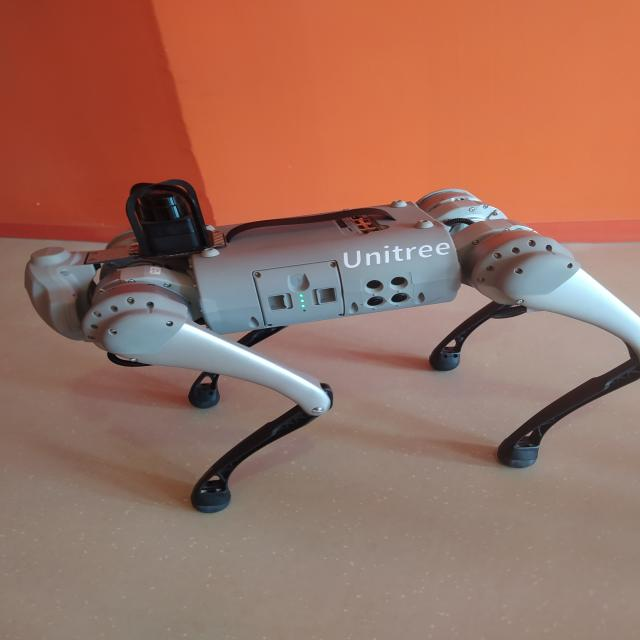unitree-go1-robot: (5, 171, 640, 524)
